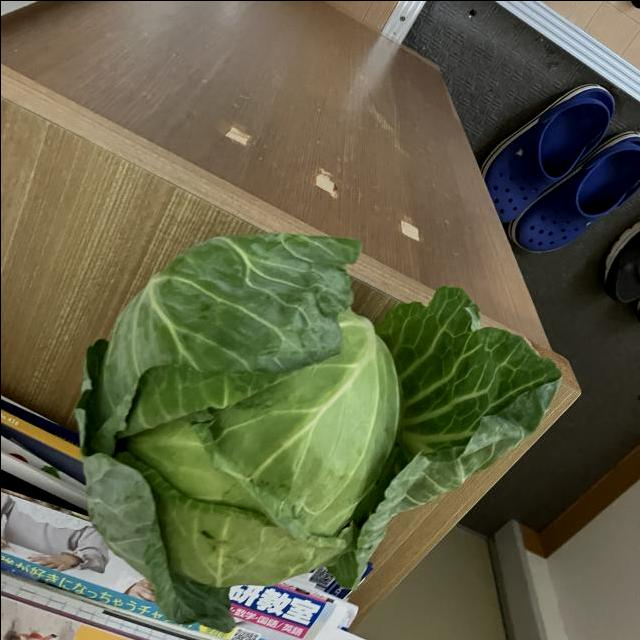cabbage: (67, 228, 567, 634)
